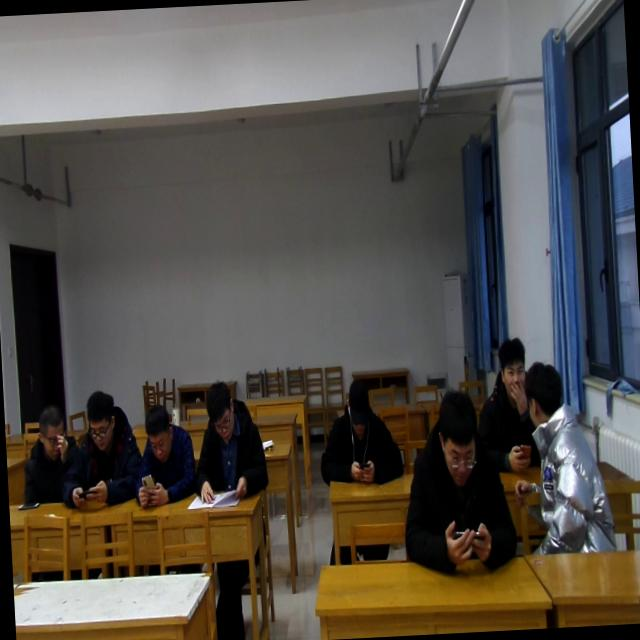down: (435, 386, 482, 488), (202, 374, 238, 444), (84, 386, 119, 454), (143, 401, 175, 463), (342, 374, 374, 436), (347, 453, 378, 488)
lookup: (495, 336, 528, 400)
sit: (396, 387, 520, 582), (506, 357, 618, 558), (57, 386, 146, 514), (472, 334, 546, 477), (315, 373, 406, 488), (187, 378, 270, 504), (127, 400, 200, 512), (16, 405, 84, 506)
